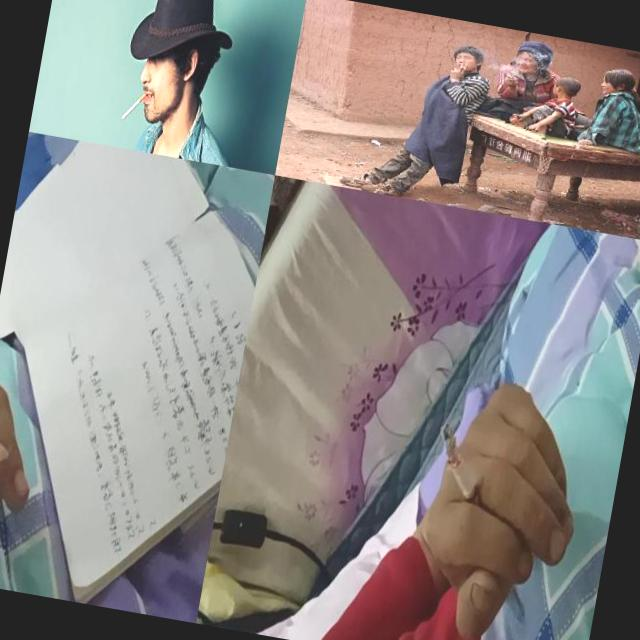cigarette: (427, 420, 495, 511), (118, 84, 148, 125), (505, 72, 514, 78), (462, 66, 465, 68)
